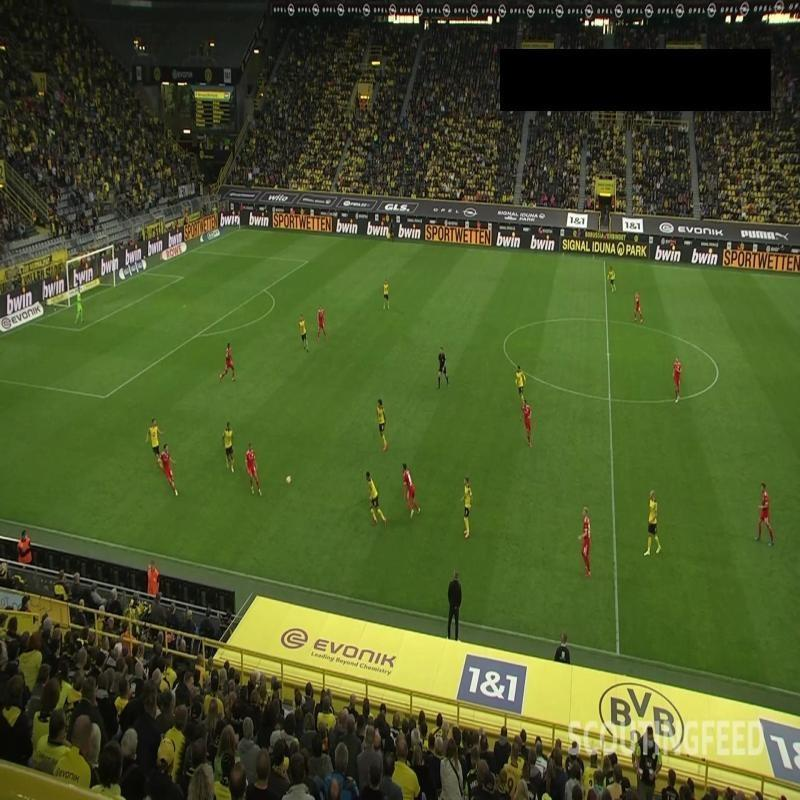1: (233, 222, 247, 236)
10: (257, 283, 271, 297)
11: (191, 328, 205, 342)
12: (97, 390, 112, 404)
13: (596, 252, 610, 266)
14: (600, 312, 614, 326)
15: (602, 390, 619, 408)
16: (611, 644, 627, 662)
2: (184, 244, 198, 258)
3: (134, 266, 148, 280)
4: (22, 316, 36, 330)
7: (176, 271, 190, 285)
8: (72, 324, 86, 338)
9: (301, 255, 315, 269)
c: (496, 336, 512, 353), (709, 364, 723, 378)
